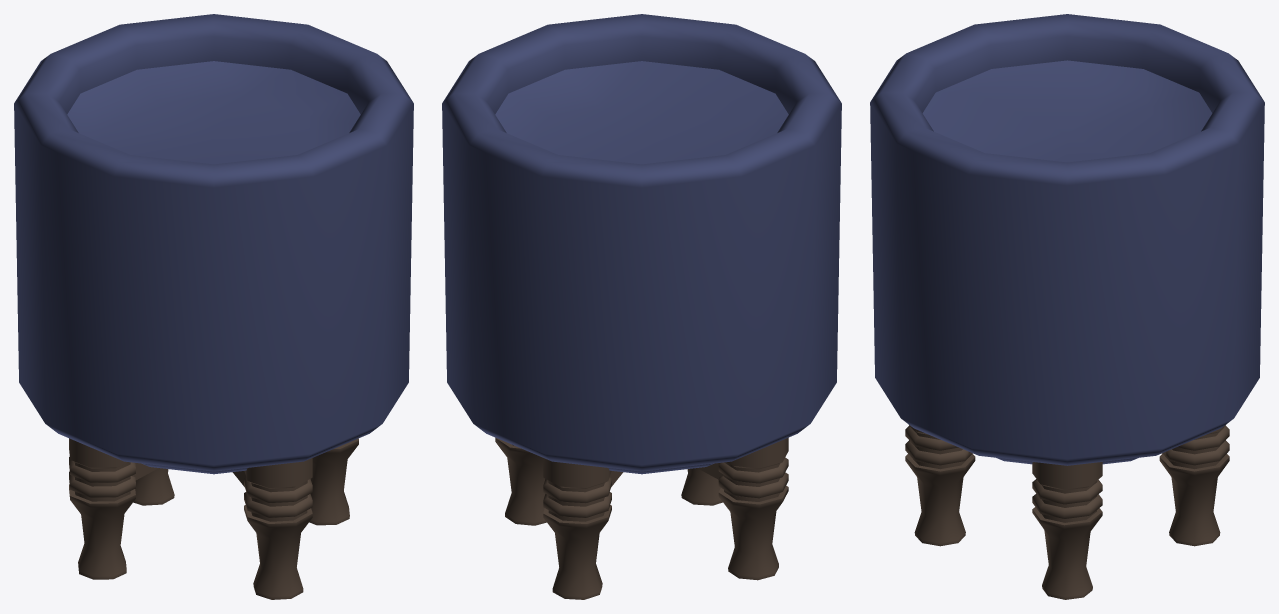
The model's file is empty plant pot.fbx.
3 views of the same model, side by side, from view 1: azimuth 30°, elevation 25°; view 2: azimuth 150°, elevation 25°; view 3: azimuth 270°, elevation 25° (orthographic).
Parts seen in each view (by area): view 1: polySurface12; view 2: polySurface12; view 3: polySurface12.
Boxes of the visible parts, left/top/right/bottom form: polySurface12: left=14, top=14, right=413, bottom=599; polySurface12: left=442, top=14, right=841, bottom=599; polySurface12: left=870, top=14, right=1264, bottom=599.
Bounding box in the file's own units: 12.12 × 15.01 × 12.12.
